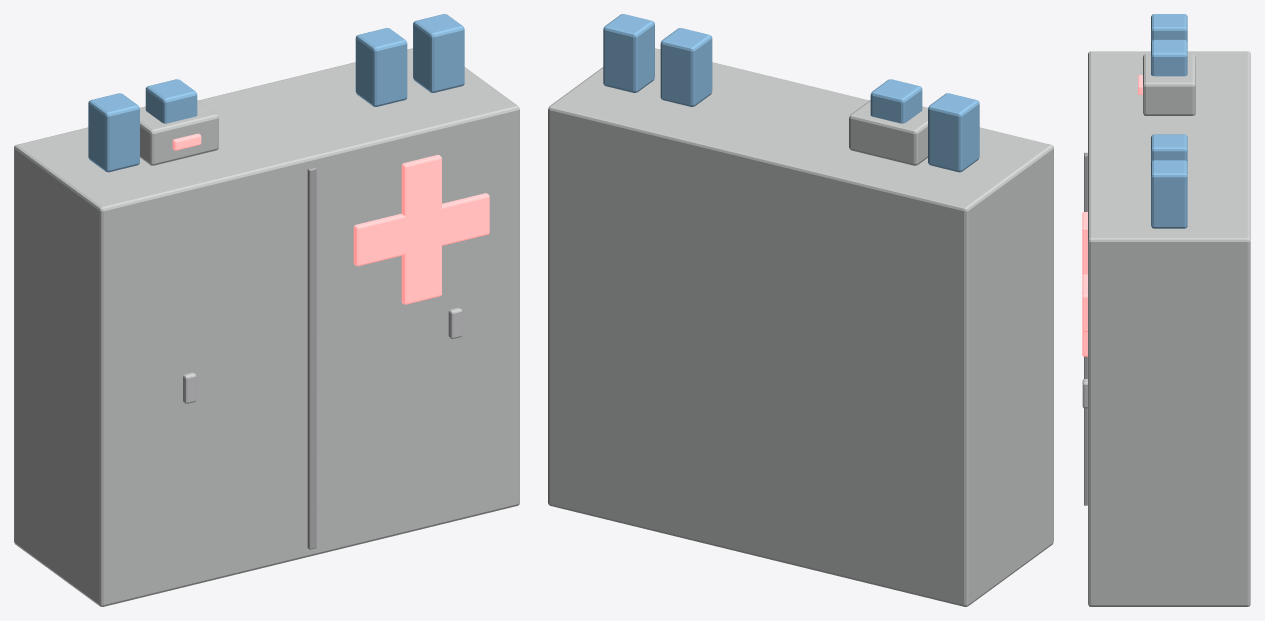
Rendered from Аптечный шкаф.glb.
3 views of the same model, side by side, from view 1: azimuth 30°, elevation 25°; view 2: azimuth 150°, elevation 25°; view 3: azimuth 270°, elevation 25° (orthographic). The views are drawn at different scales.
Visible parts, largest first — view 1: аптечный_шкаф; view 2: аптечный_шкаф; view 3: аптечный_шкаф.
Boxes of the visible parts, x1,y1,x2,y2 form: аптечный_шкаф: [14, 14, 519, 606]; аптечный_шкаф: [548, 14, 1053, 606]; аптечный_шкаф: [1082, 14, 1250, 606].
Size of the model in its own units: 2.2 by 2.3 by 0.8285.
